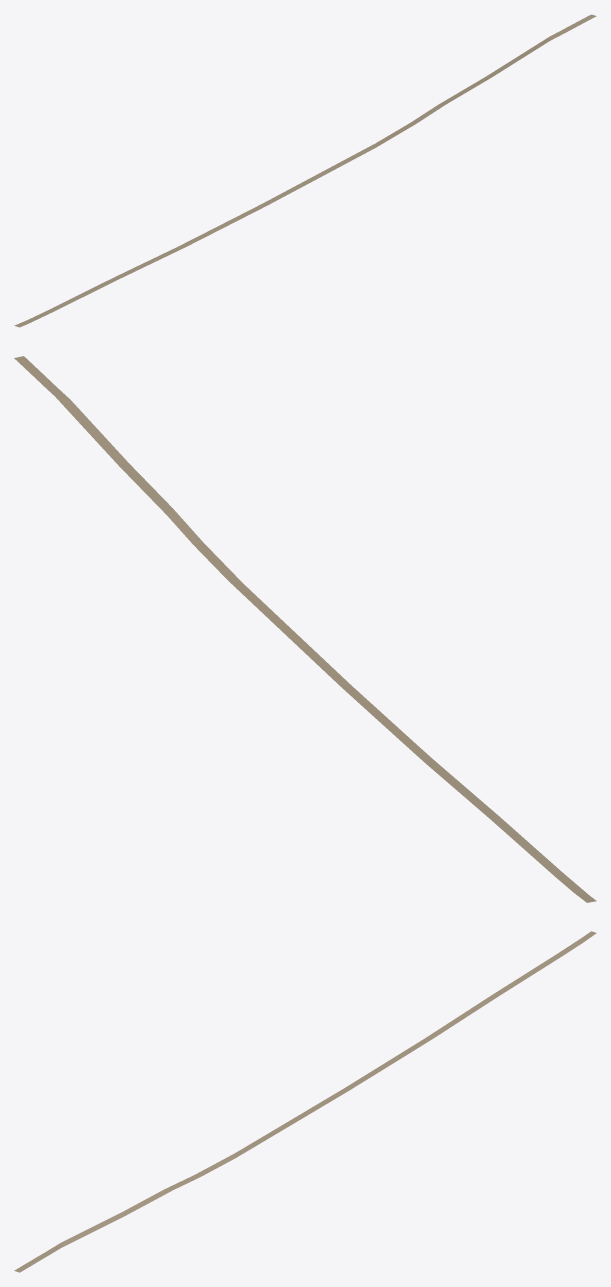
File: farm_-33_-26_track.glb
3 renders of one model, top to bottom at view 1: azimuth 90°, elevation 25°; view 2: azimuth 150°, elevation 25°; view 3: azimuth 270°, elevation 25°, orthographic. The views are drawn at different scales.
Visible parts, largest first — view 1: geometry_0; view 2: geometry_0; view 3: geometry_0.
Part boxes in pixels (bbox=[...]): geometry_0: bbox=[14, 14, 596, 327]; geometry_0: bbox=[14, 356, 596, 902]; geometry_0: bbox=[14, 931, 596, 1272].
Size of the model in its own units: 356 by 10.88 by 268.
